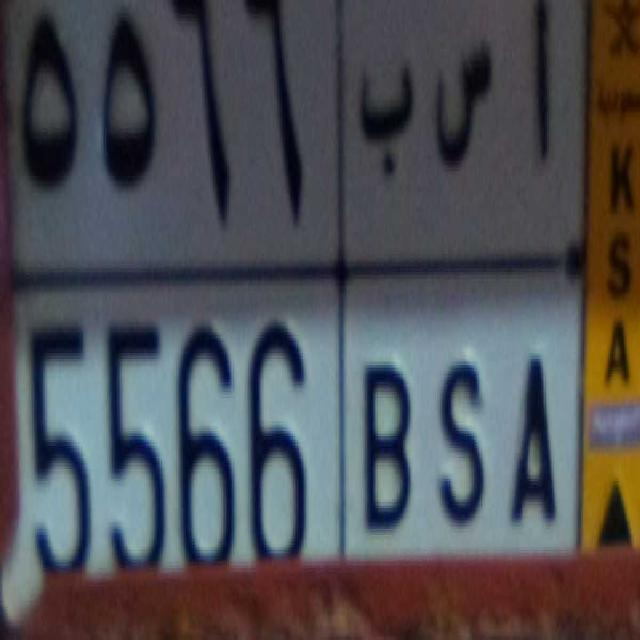license_plate: (12, 266, 570, 602)
